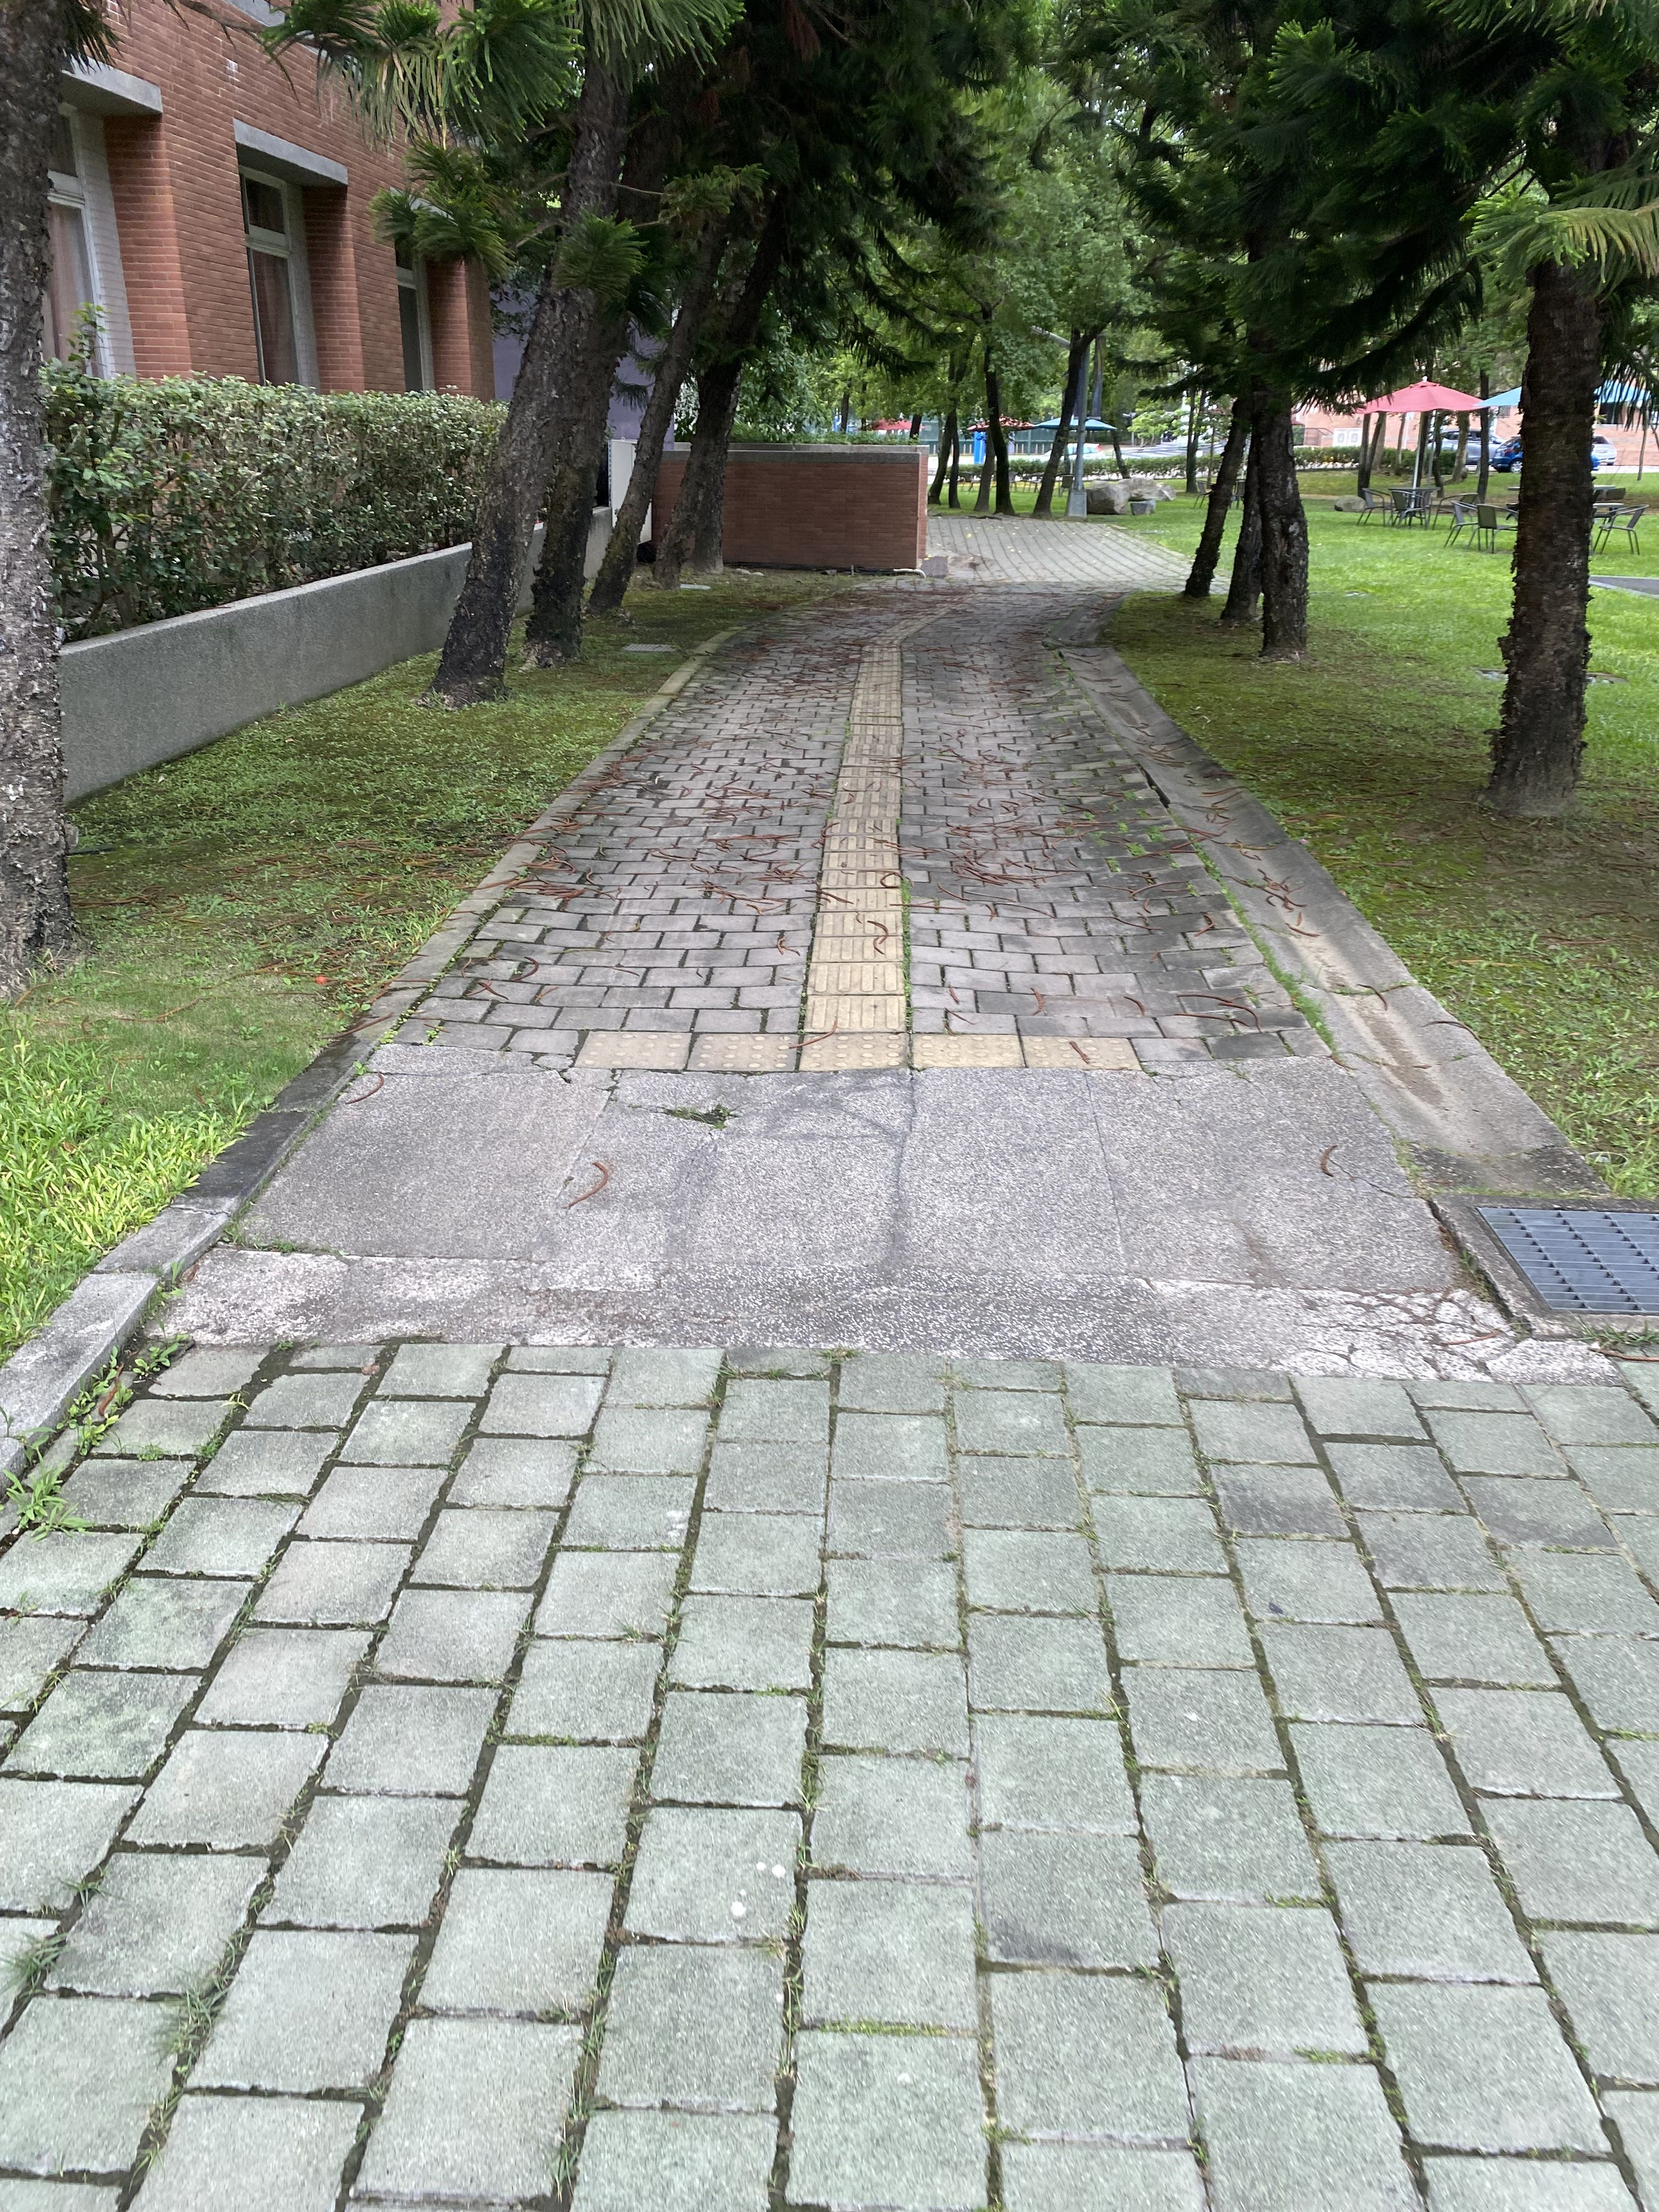sidewalk: (237, 479, 1492, 2212)
